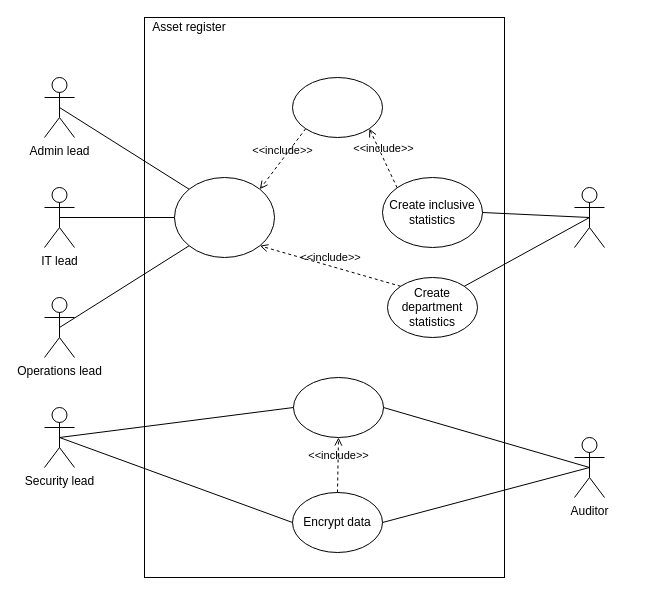
The diagram is 653 pixels wide and 595 high, and some of its shapes have lost their labels. The shapes that lost their labels are listed below. From the top down, each one's box as (x1, y1, x2, y2) in pixels, then its label:
(292, 76, 382, 138): Combine data
(174, 176, 274, 258): Retrieve department data
(574, 186, 604, 248): Compliance team
(292, 376, 384, 438): Generate key
